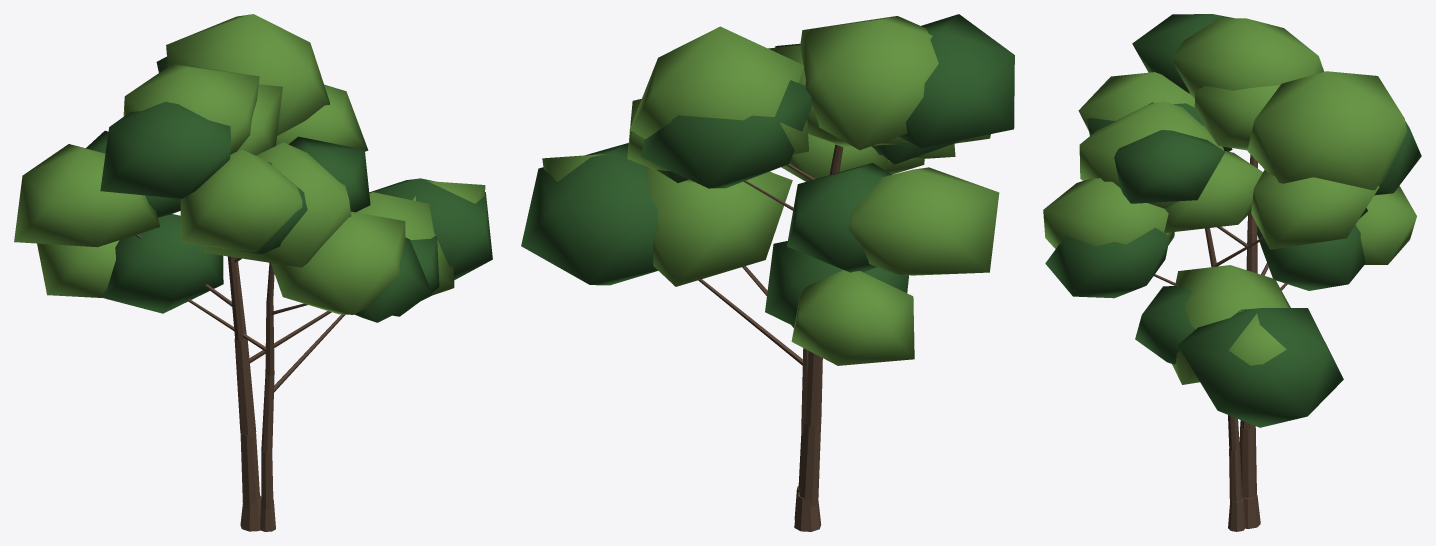
The model's file is v12-pohon-kecil.glb.
The picture shows the model from 3 angles, left to right: view 1: azimuth 30°, elevation 25°; view 2: azimuth 150°, elevation 25°; view 3: azimuth 270°, elevation 25°; orthographic projection. The views are drawn at different scales.
Visible parts, largest first — view 1: EX_unri:daun-terang.002, EX_unri:daun-gelap.002, EX_unri:kulit-kayu.002; view 2: EX_unri:daun-terang.002, EX_unri:daun-gelap.002, EX_unri:kulit-kayu.002; view 3: EX_unri:daun-terang.002, EX_unri:daun-gelap.002, EX_unri:kulit-kayu.002.
Boxes of the visible parts, x1=… form: EX_unri:daun-terang.002: x1=14, y1=14, x2=485, y2=314; EX_unri:daun-gelap.002: x1=86, y1=56, x2=492, y2=322; EX_unri:kulit-kayu.002: x1=135, y1=234, x2=345, y2=531; EX_unri:daun-terang.002: x1=542, y1=16, x2=999, y2=365; EX_unri:daun-gelap.002: x1=521, y1=14, x2=1014, y2=325; EX_unri:kulit-kayu.002: x1=698, y1=144, x2=843, y2=531; EX_unri:daun-terang.002: x1=1043, y1=18, x2=1416, y2=384; EX_unri:daun-gelap.002: x1=1045, y1=14, x2=1421, y2=427; EX_unri:kulit-kayu.002: x1=1154, y1=154, x2=1287, y2=531.
Bounding box in the file's own units: 9.19 × 9.47 × 6.85.
